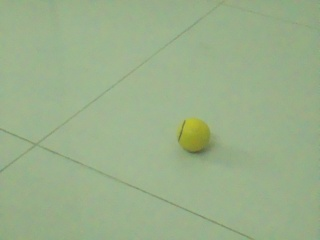ball: (177, 118, 210, 152)
